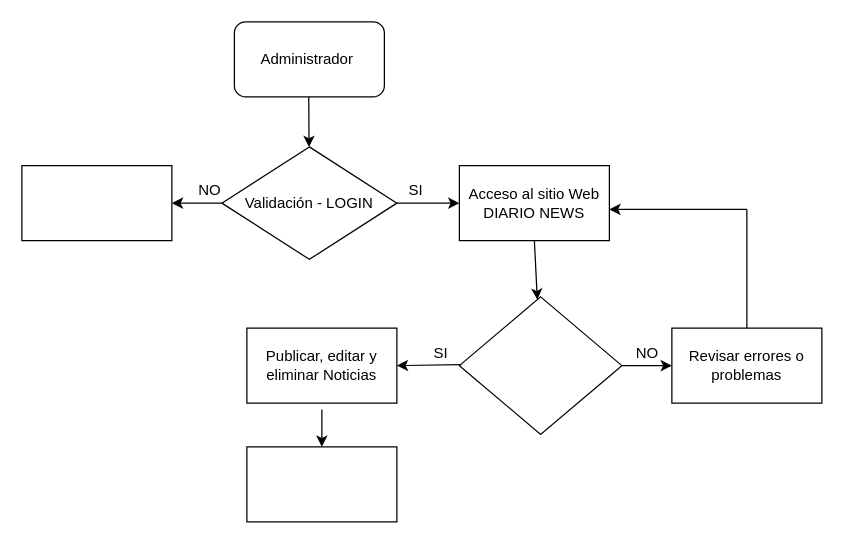
The diagram is 844 pixels wide and 544 high, and some of its shapes have lost their labels. Here are the shapes that lost their labels. From the top down, the centre of each, then its label:
At (x=96, y=202): "La compañía debe registrar al Administrador en la BD".
At (x=540, y=365): "Acceso a Base de datos para CRUD".
At (x=321, y=484): "Mostrar últimas noticias en la sección noticias.php del DIARIO NEWS".
